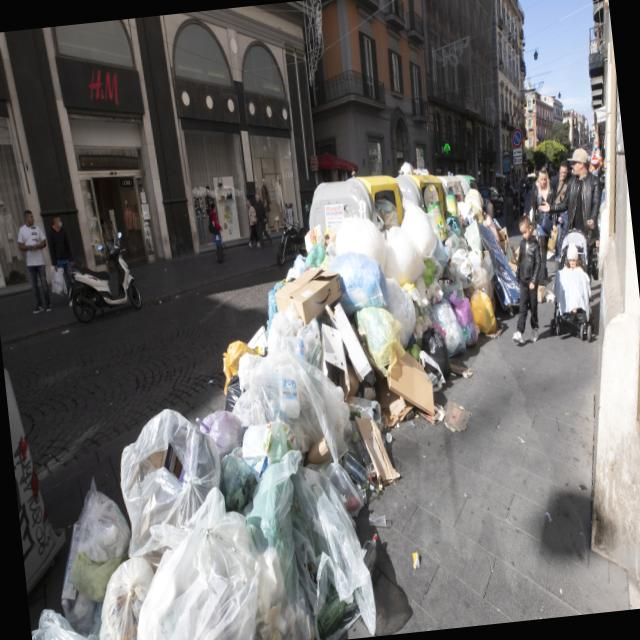garbage: (0, 176, 552, 640)
